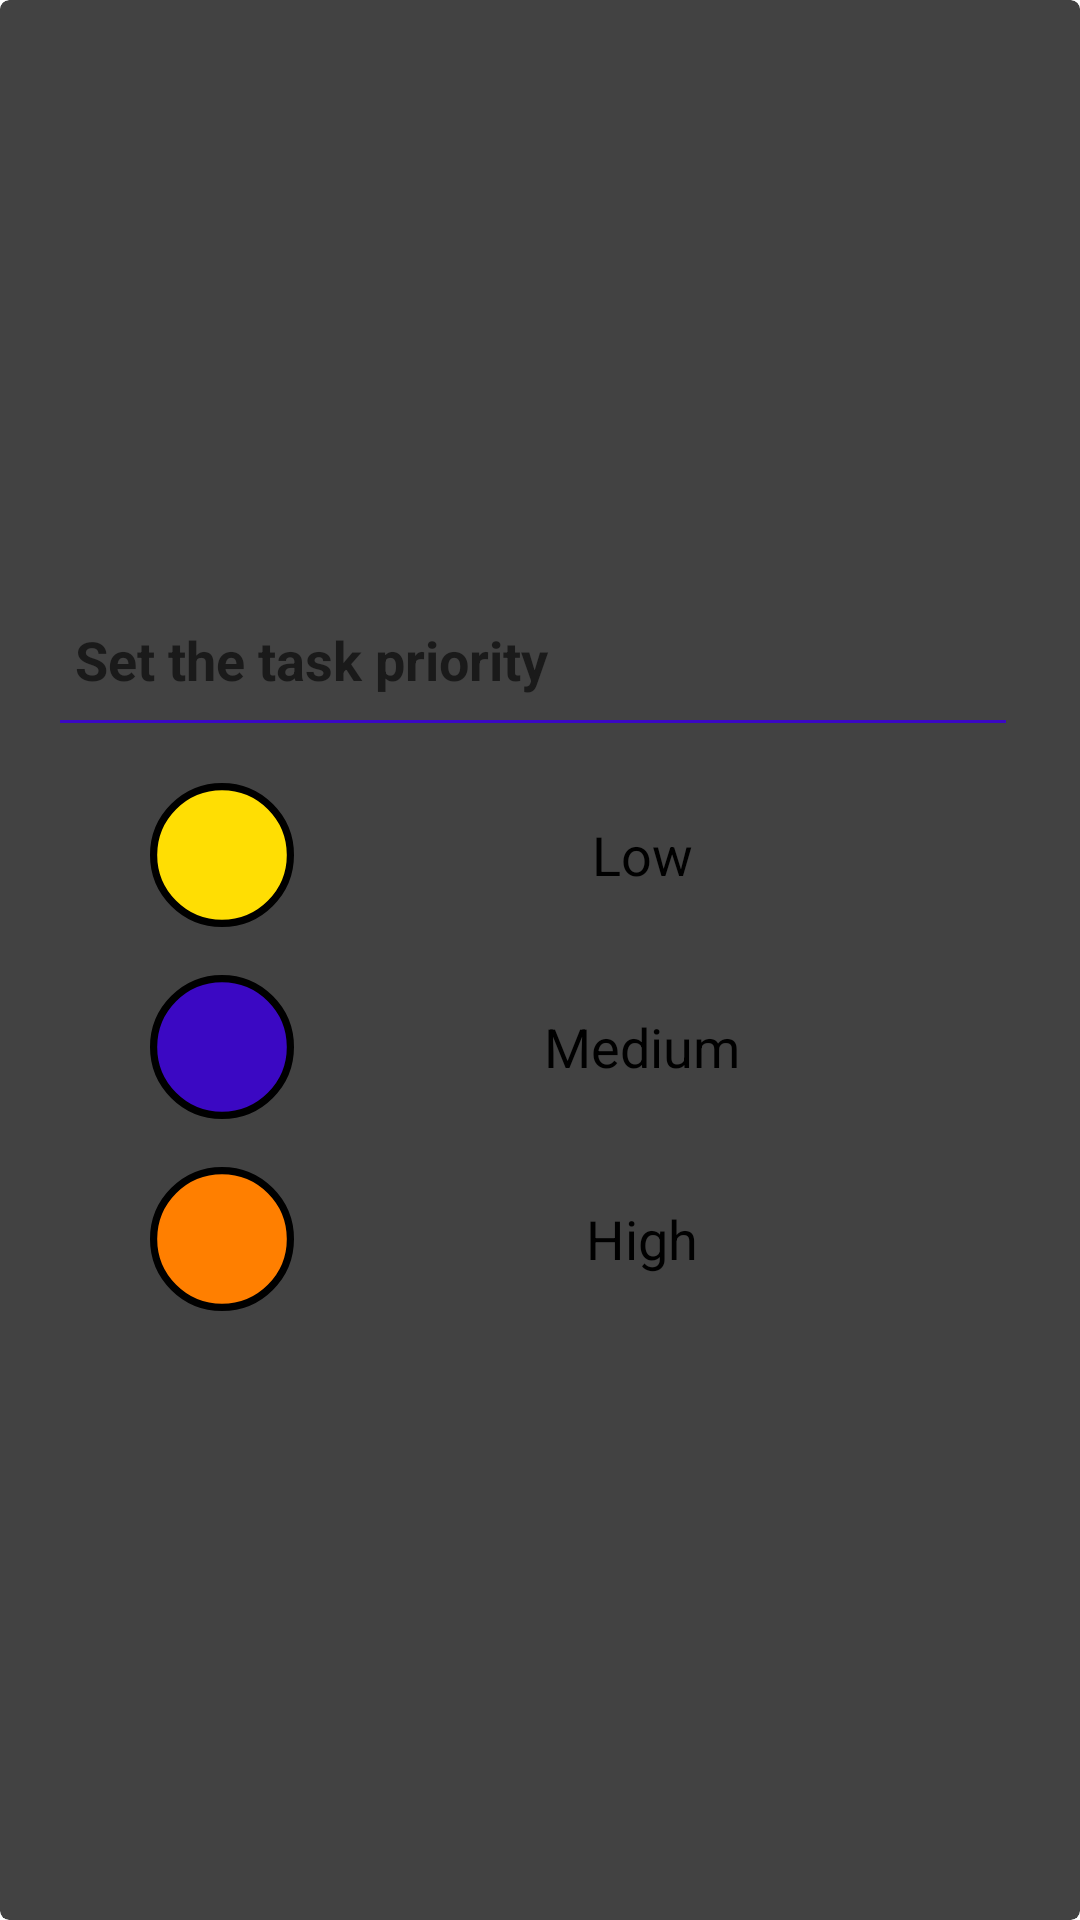

Icon bounding boxes for this 1080*1920 phone screenshot, format (left=x1, top=y1, right=x2, bottom=y2):
task priority circle: (left=150, top=783, right=294, bottom=927)
